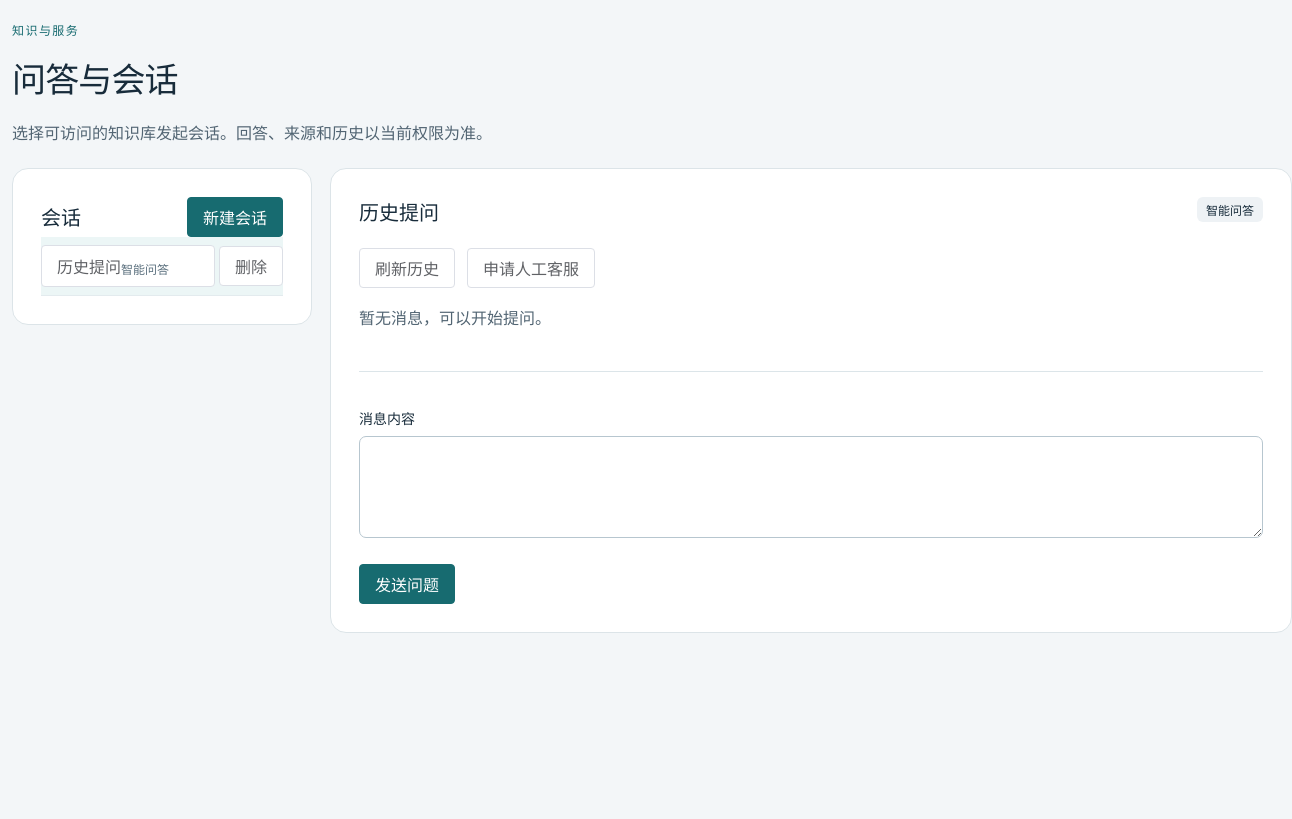
Test: streams a bot answer and refreshes persisted history after done
The width and height of the screenshot is (1292, 819).
Type "问题" into the text box named "消息内容".
click(811, 487); type("问题")  # box [359,436,1263,538]
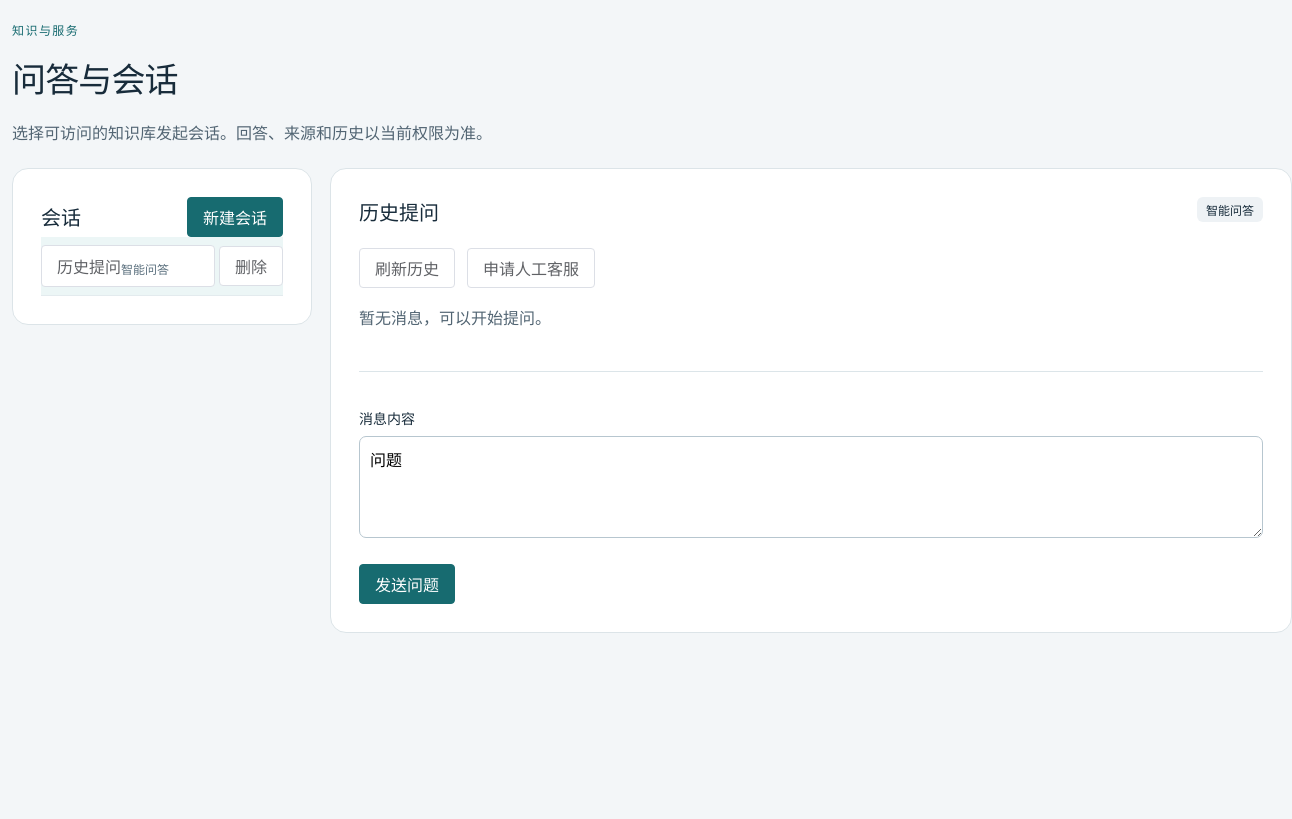
Submit the form with class "composer", box [359,371,1263,604]
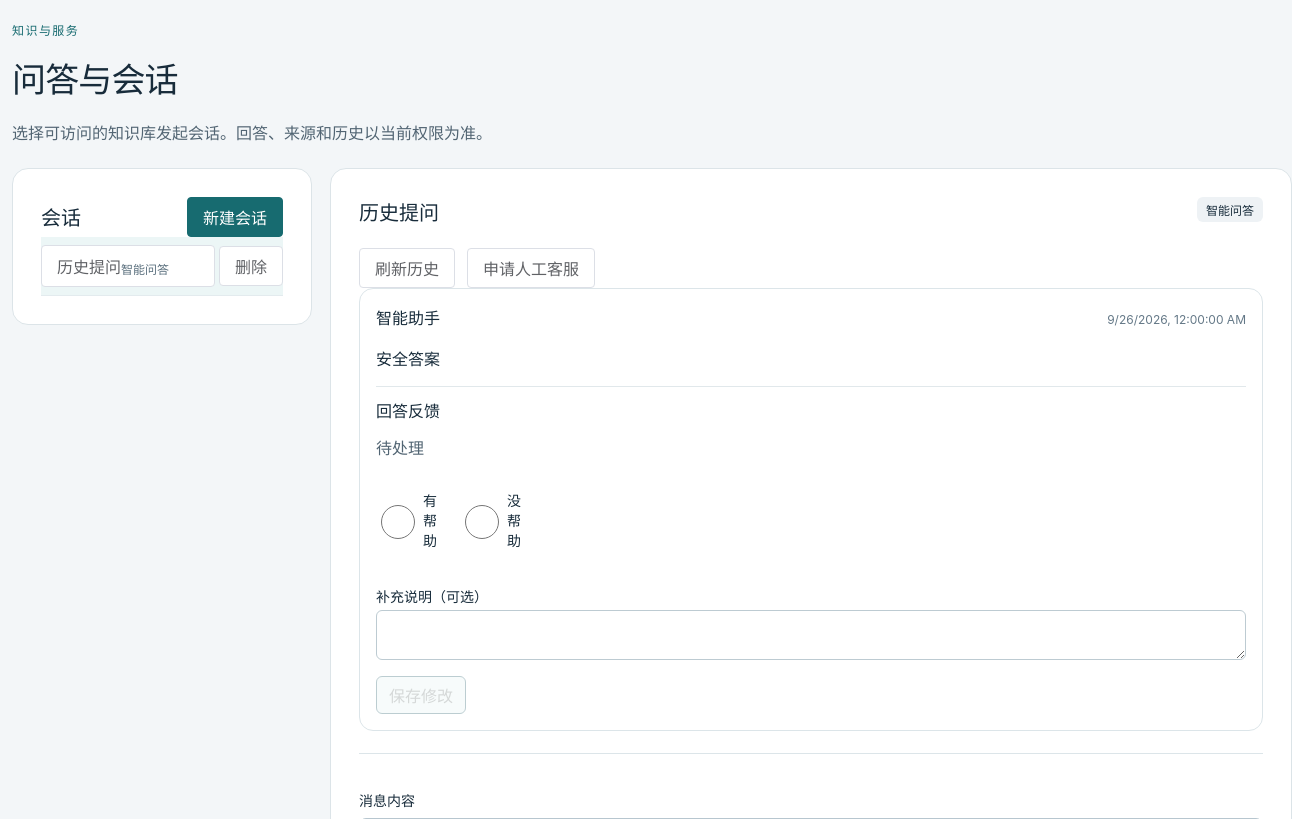
Now the text "安全答案" is shown, box [376,349,440,369]
